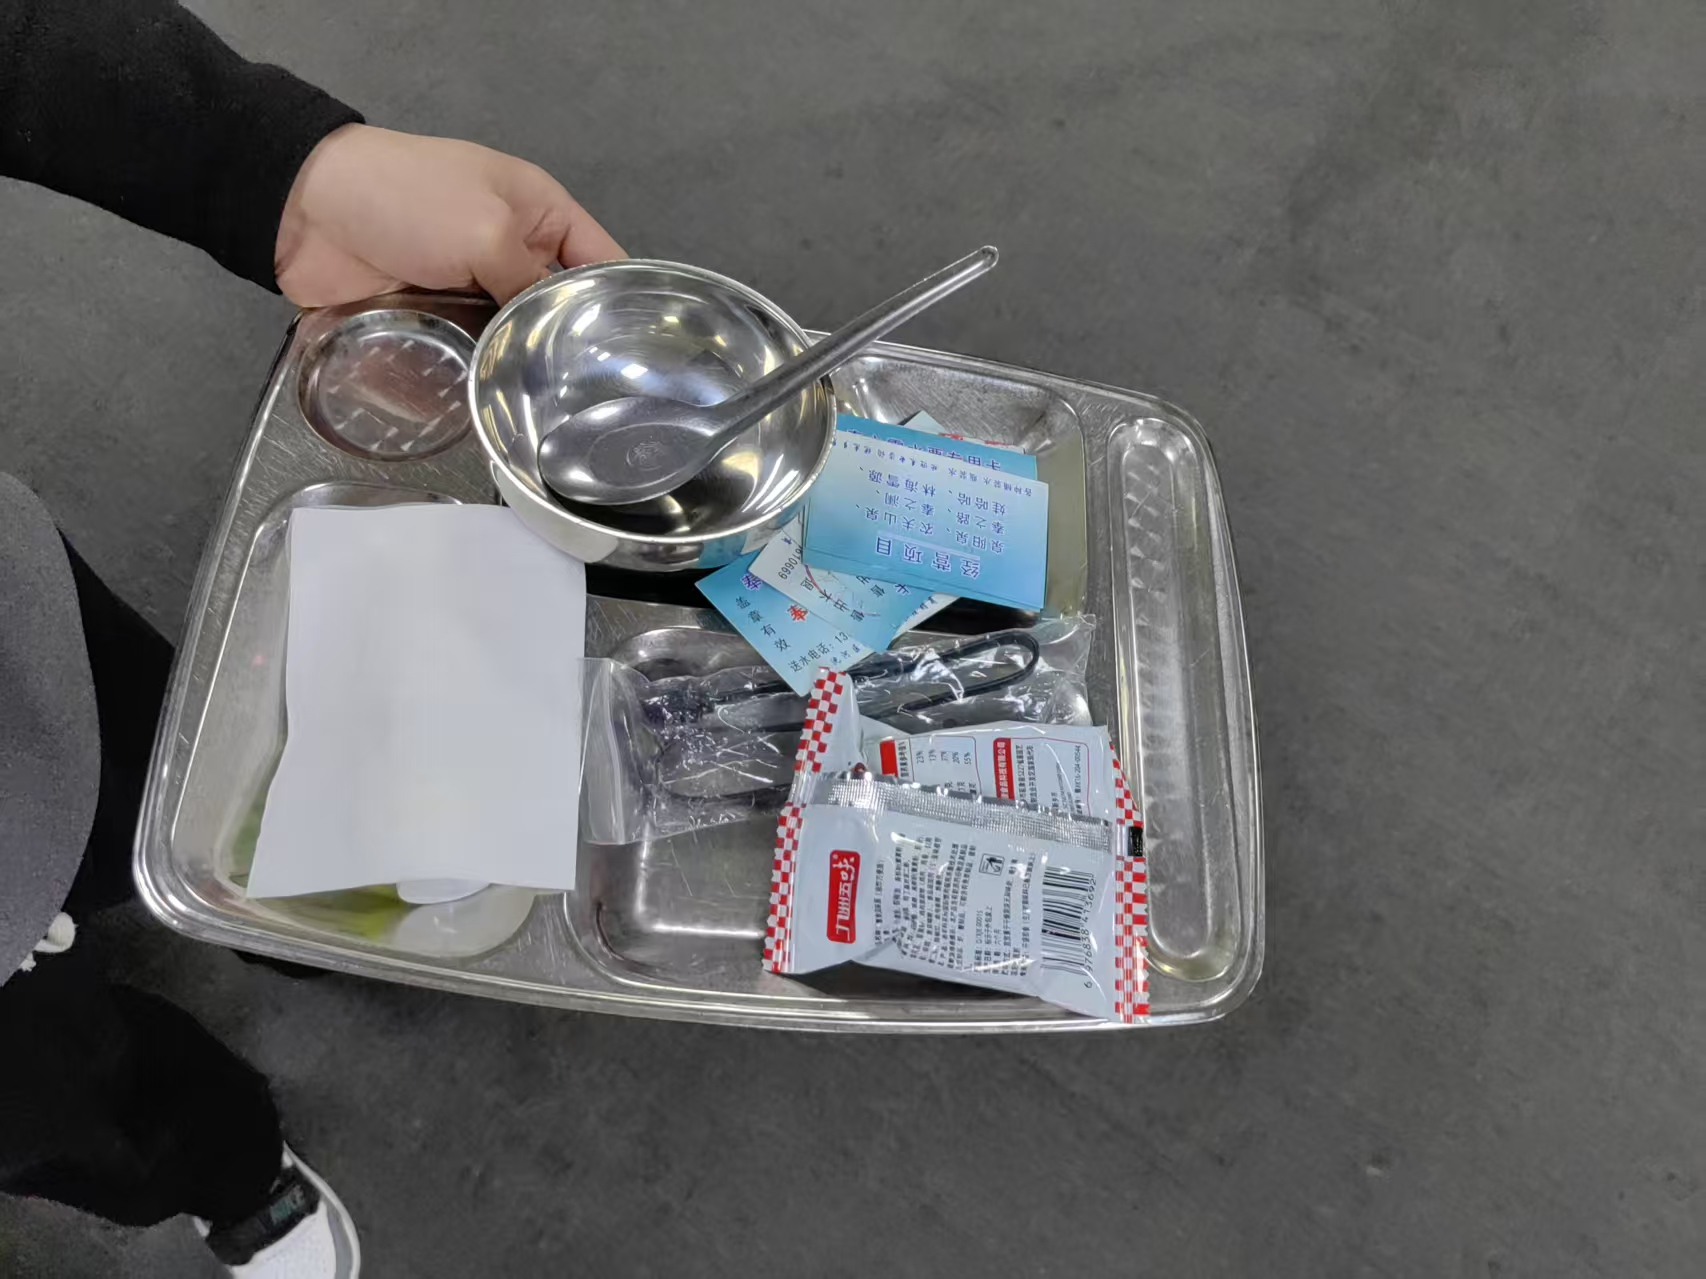moderate: (575, 413, 1150, 1032)
plate: (133, 285, 1272, 1038)
tissue: (250, 507, 594, 893)
